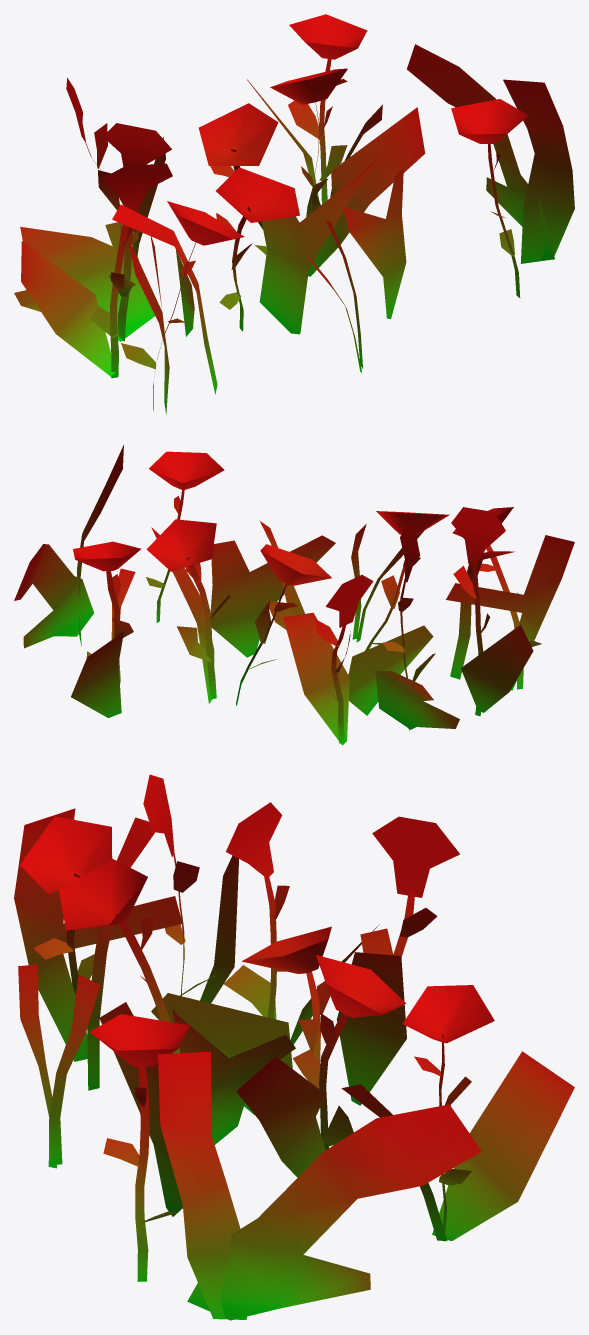
The model's file is Var9_LOD1.fbx.
3 renders of one model, top to bottom at view 1: azimuth 30°, elevation 25°; view 2: azimuth 150°, elevation 25°; view 3: azimuth 270°, elevation 25°, orthographic. The views are drawn at different scales.
Parts seen in each view (by area): view 1: _83c6_Var9_LOD1; view 2: _83c6_Var9_LOD1; view 3: _83c6_Var9_LOD1.
Part boxes in pixels (x1=…): _83c6_Var9_LOD1: x1=14, y1=14, x2=574, y2=414; _83c6_Var9_LOD1: x1=14, y1=445, x2=574, y2=745; _83c6_Var9_LOD1: x1=14, y1=774, x2=574, y2=1320.
Bounding box in the file's own units: 15.71 × 6.5 × 11.55.
